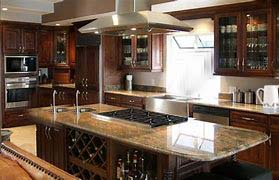copymove: (42, 84, 72, 115)
removal: (135, 72, 156, 90)
spliced: (255, 83, 279, 110)
